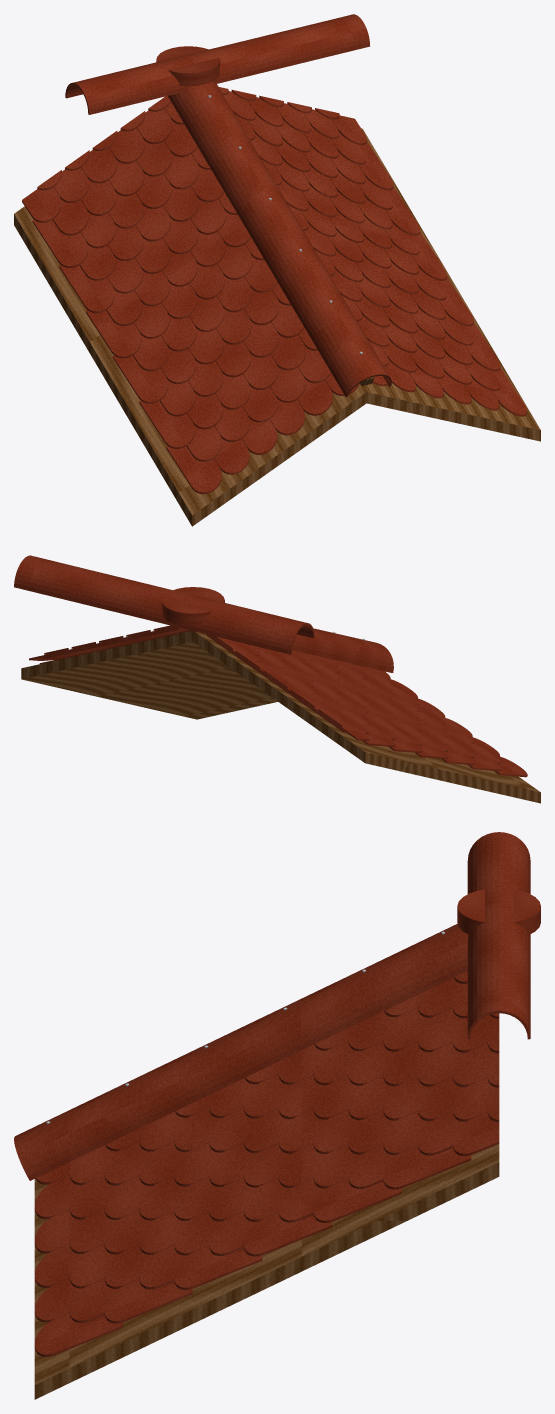
Rendered from modell.glb.
3 renders of one model, top to bottom at view 1: azimuth 30°, elevation 25°; view 2: azimuth 150°, elevation 25°; view 3: azimuth 270°, elevation 25°, orthographic. The views are drawn at different scales.
Visible parts, largest first — view 1: w03-ziegel_deckung, w03-gratziegel_deckung, w03-walmflaeche_tragwerk, w03-first_deckung, w03-knoten_deckung; view 2: w03-walmflaeche_tragwerk, w03-ziegel_deckung, w03-first_deckung, w03-gratziegel_deckung, w03-knoten_deckung; view 3: w03-ziegel_deckung, w03-gratziegel_deckung, w03-walmflaeche_tragwerk, w03-first_deckung, w03-knoten_deckung.
Part boxes in pixels (<box>): w03-ziegel_deckung: <box>22,87,527,494</box>; w03-gratziegel_deckung: <box>168,81,391,396</box>; w03-walmflaeche_tragwerk: <box>14,128,540,526</box>; w03-first_deckung: <box>65,14,370,114</box>; w03-knoten_deckung: <box>156,46,220,86</box>; w03-walmflaeche_tragwerk: <box>21,631,540,803</box>; w03-ziegel_deckung: <box>29,625,527,777</box>; w03-first_deckung: <box>14,555,314,654</box>; w03-gratziegel_deckung: <box>292,628,393,672</box>; w03-knoten_deckung: <box>161,587,224,626</box>; w03-ziegel_deckung: <box>34,971,499,1356</box>; w03-gratziegel_deckung: <box>14,924,468,1180</box>; w03-walmflaeche_tragwerk: <box>34,1144,499,1399</box>; w03-first_deckung: <box>467,832,530,1039</box>; w03-knoten_deckung: <box>457,889,540,934</box>.
Bounding box in the file's own units: 2.26 × 1.84 × 2.27.
Materials: 3 (2 with a texture image).
